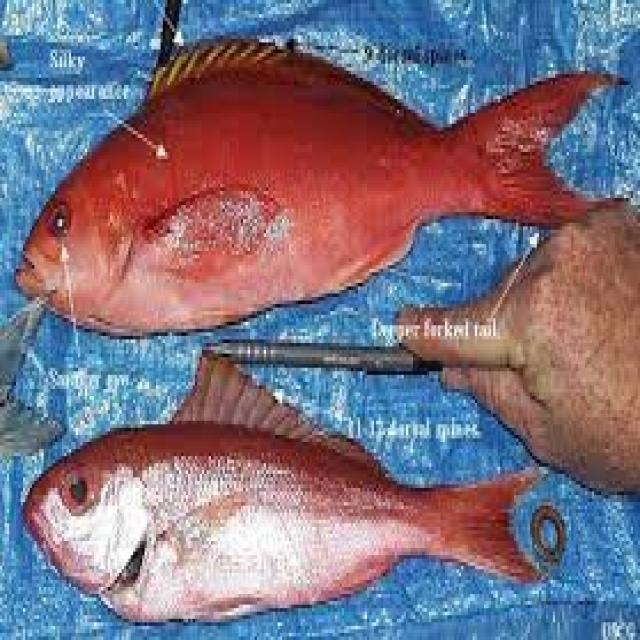northern-red-snapper: (7, 22, 623, 346), (23, 338, 547, 625)
